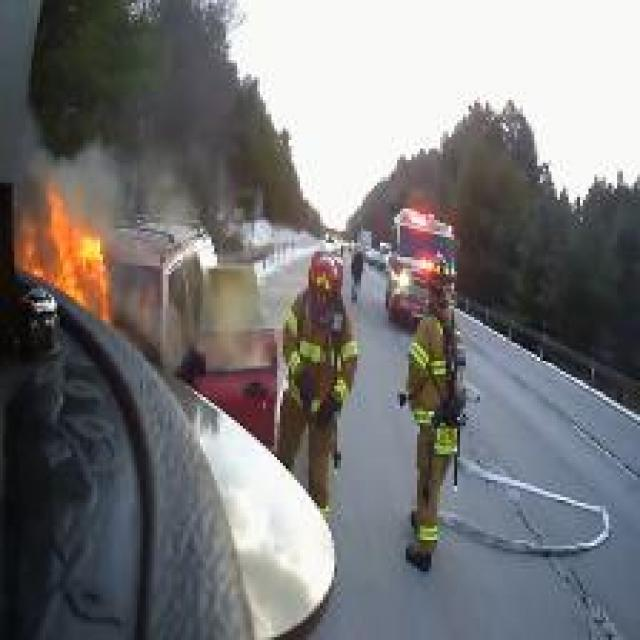Fire: (13, 181, 116, 333)
